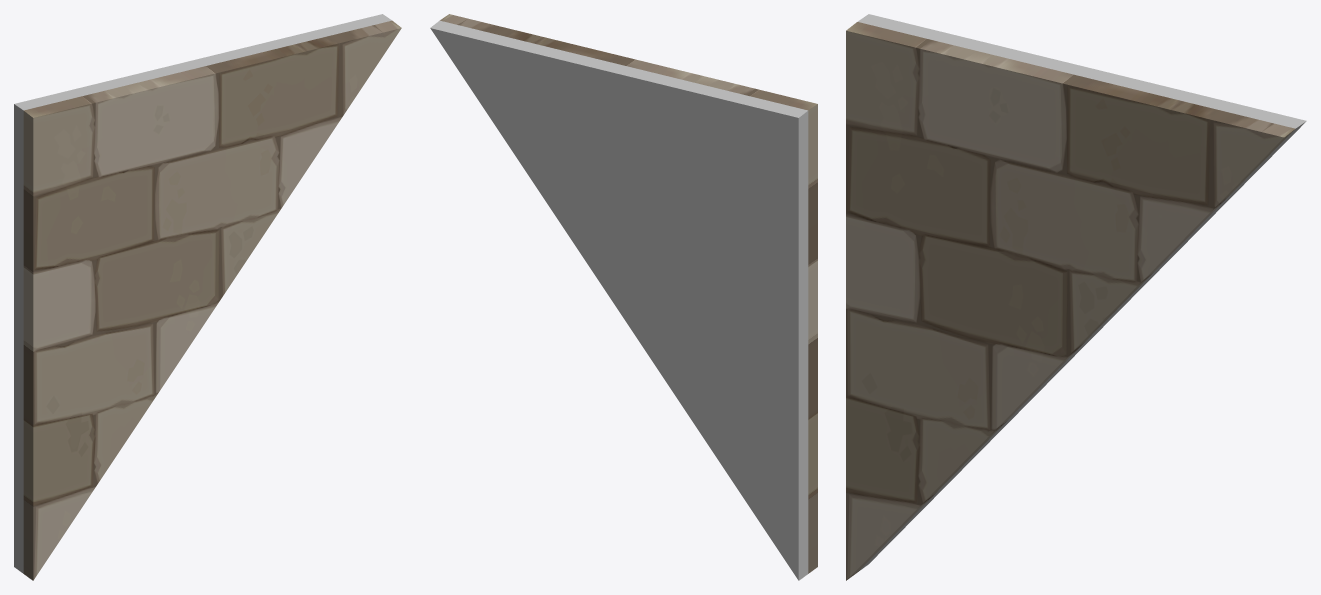
File: SM_Bld_Wall_End_Straight_Inverted_01.fbx
The picture shows the model from 3 angles, left to right: view 1: azimuth 30°, elevation 25°; view 2: azimuth 150°, elevation 25°; view 3: azimuth 330°, elevation 25°; orthographic projection. The views are drawn at different scales.
Parts seen in each view (by area): view 1: SM_Bld_Wall_End_Straight_Inverted_01; view 2: SM_Bld_Wall_End_Straight_Inverted_01; view 3: SM_Bld_Wall_End_Straight_Inverted_01.
Part boxes in pixels (left/top/right/bottom): SM_Bld_Wall_End_Straight_Inverted_01: left=14, top=14, right=401, bottom=580; SM_Bld_Wall_End_Straight_Inverted_01: left=430, top=14, right=817, bottom=580; SM_Bld_Wall_End_Straight_Inverted_01: left=846, top=14, right=1306, bottom=580.
Bounding box in the file's own units: 250 × 300 × 22.5.
